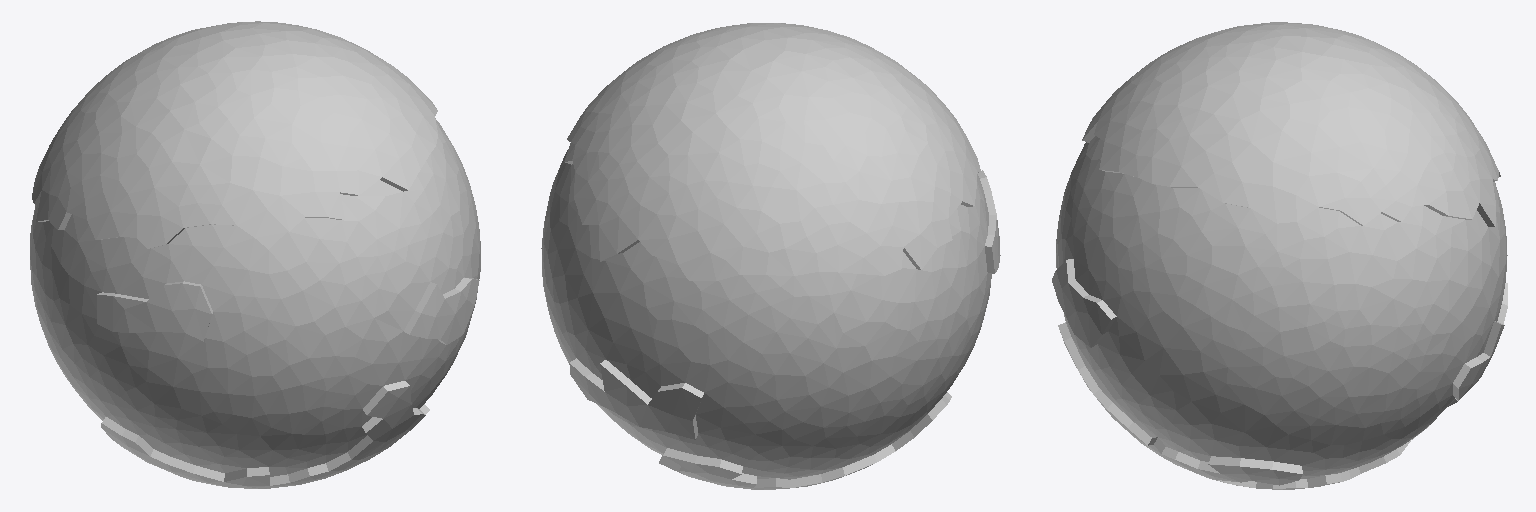
The model's file is planetC.obj.
3 renders of one model, left to right at view 1: azimuth 30°, elevation 25°; view 2: azimuth 150°, elevation 25°; view 3: azimuth 270°, elevation 25°, orthographic.
Visible parts, largest first — view 1: Planet_3_Cube.002; view 2: Planet_3_Cube.002; view 3: Planet_3_Cube.002.
Part boxes in pixels (x1,y1,x2,y2): Planet_3_Cube.002: (30,21,480,488); Planet_3_Cube.002: (541,23,1000,489); Planet_3_Cube.002: (1052,22,1507,489).
Bounding box in the file's own units: 2.07 × 2.14 × 2.09.